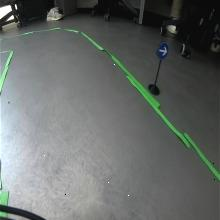right: (156, 42, 168, 60)
